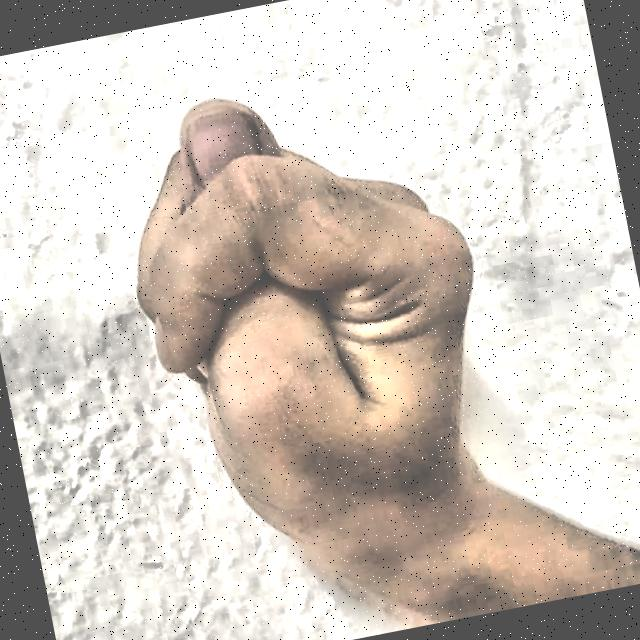Ta: (59, 5, 612, 640)
